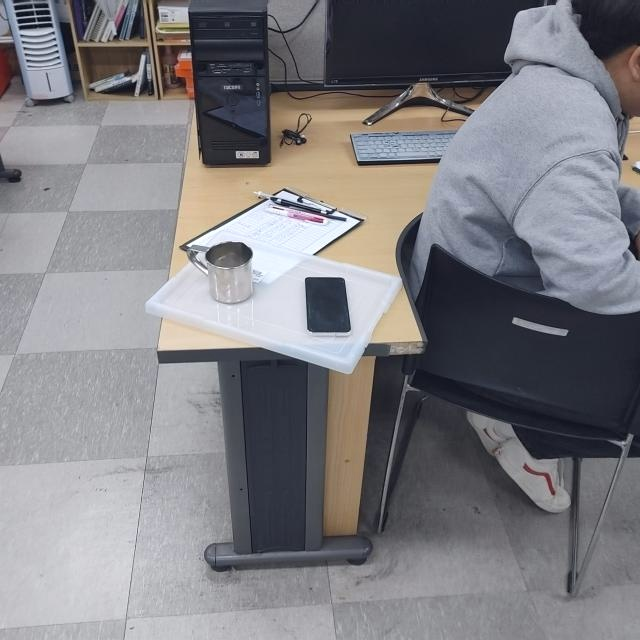cup: (183, 238, 254, 306)
phone: (302, 277, 354, 338)
